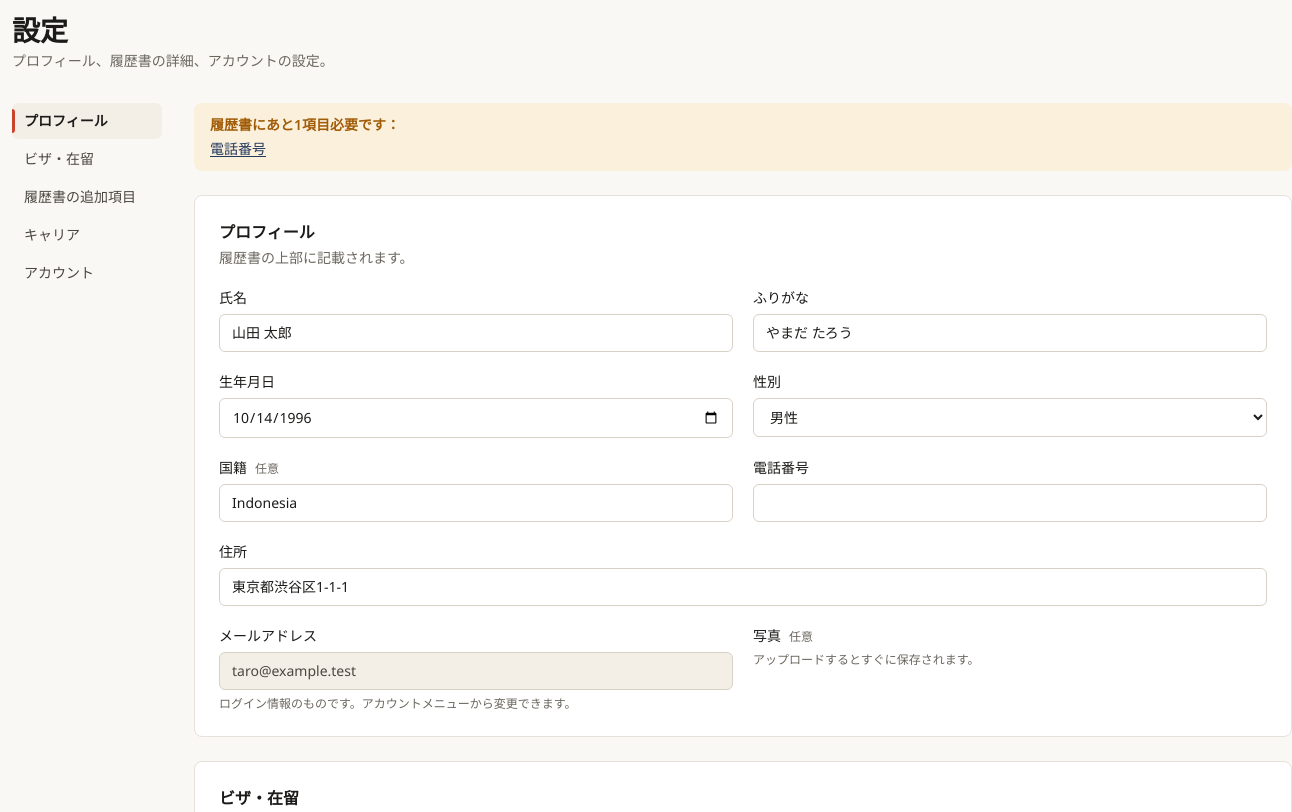
Scenario: settings page, the 履歴書 completeness banner › follows the form as it is edited, before any save
The image size is (1292, 812).
Type "080" into the field with id "rirekisho-field-phone_number" at (1010, 503), box x1=753 y1=484 x2=1267 y2=522
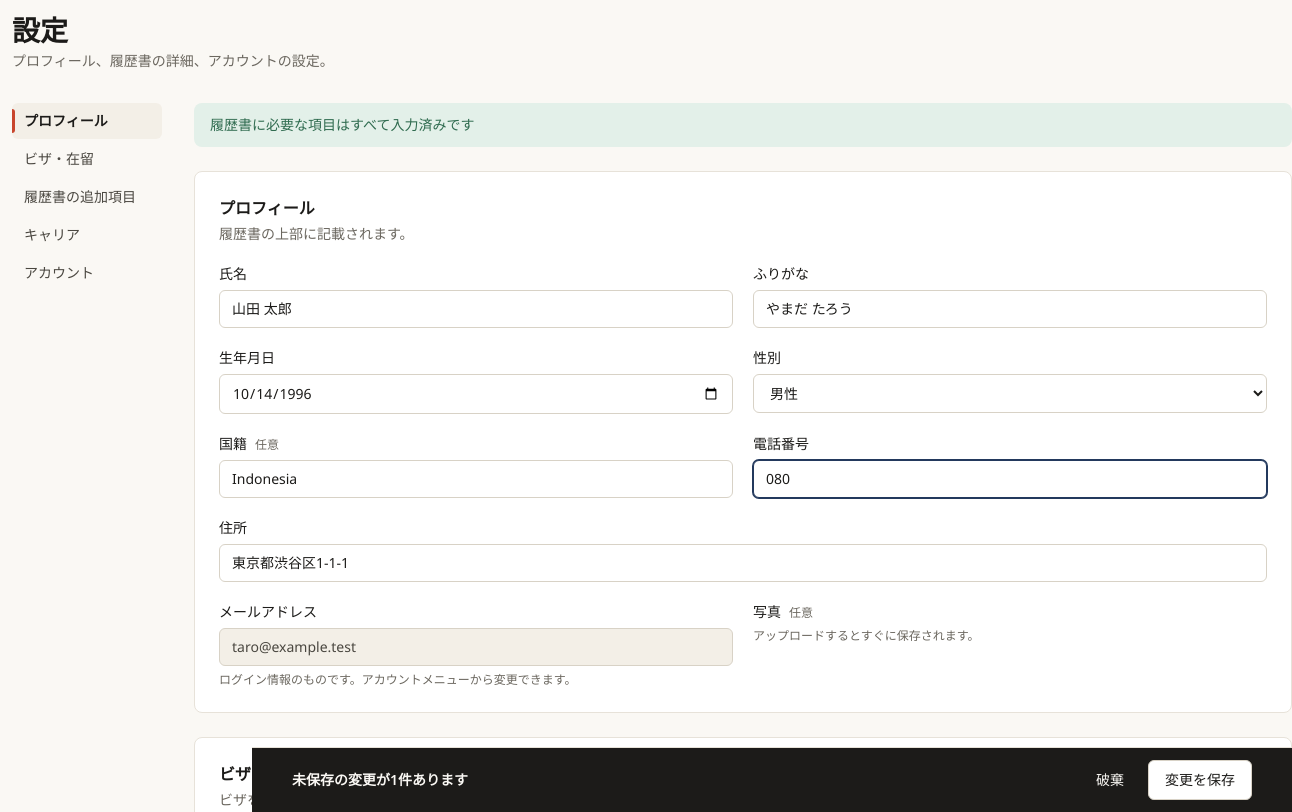
Check: the text "履歴書に必要な項目はすべて入力済みです" is shown, box x1=194 y1=103 x2=1291 y2=147
